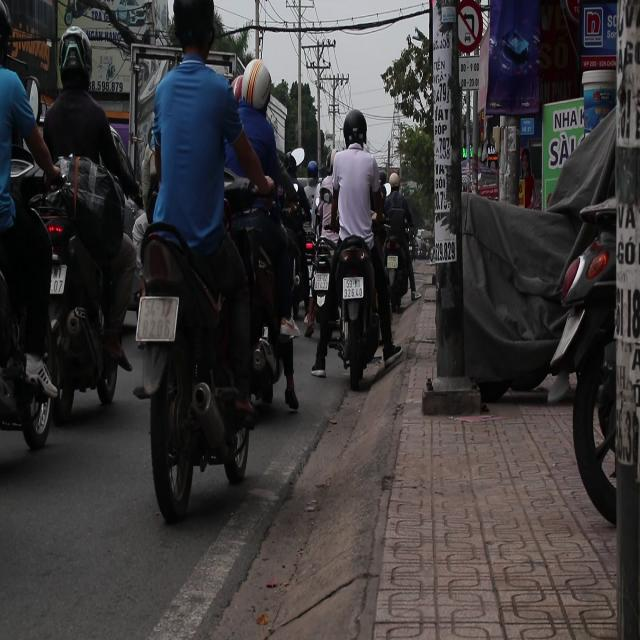motorbike: (131, 215, 261, 514), (17, 152, 142, 424), (308, 218, 388, 392)
